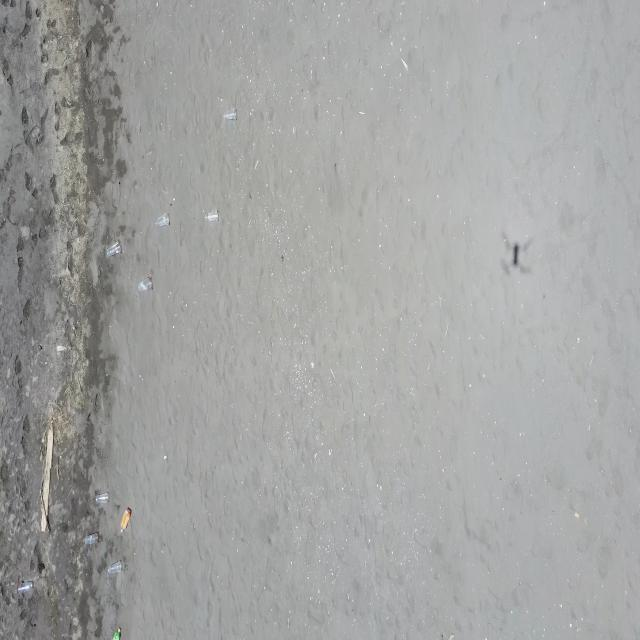plastic-bottle: (118, 508, 132, 534), (112, 627, 122, 640)
takeaway-cup: (106, 240, 123, 259), (154, 211, 170, 229), (17, 581, 35, 595), (108, 560, 122, 576), (138, 276, 152, 292), (84, 532, 99, 546), (96, 491, 111, 505), (223, 109, 238, 122), (205, 210, 219, 223)
